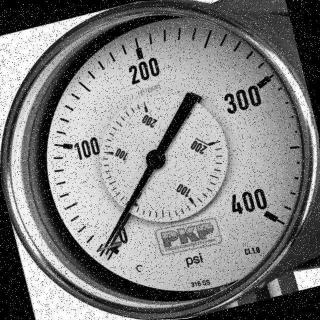gauge: (0, 0, 320, 320), (237, 186, 292, 238), (94, 226, 131, 265), (144, 146, 168, 170), (94, 248, 106, 260), (102, 248, 112, 258)
